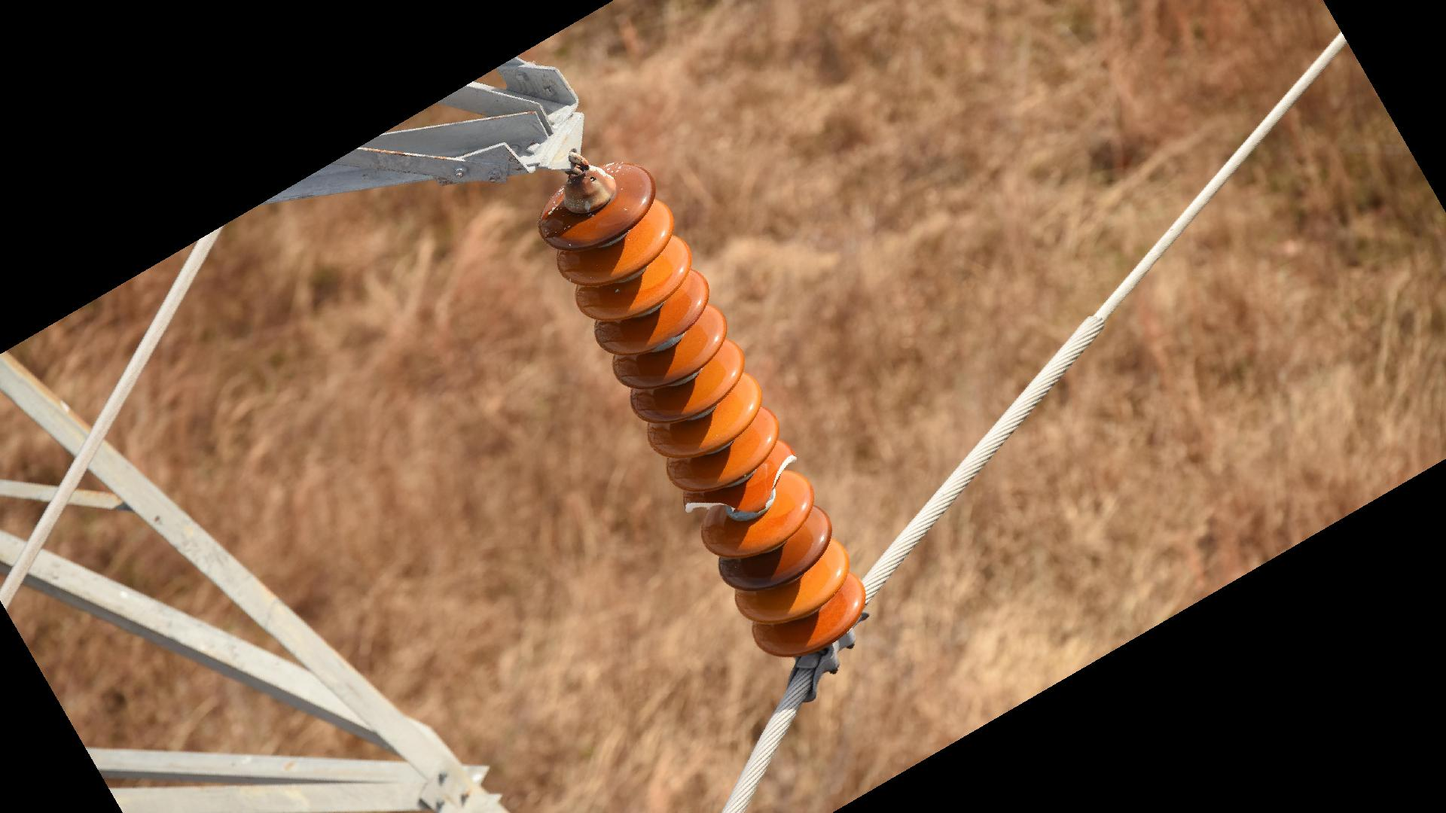insulator: (533, 157, 869, 662)
insulator_breakage: (754, 447, 801, 513), (679, 494, 739, 519)
